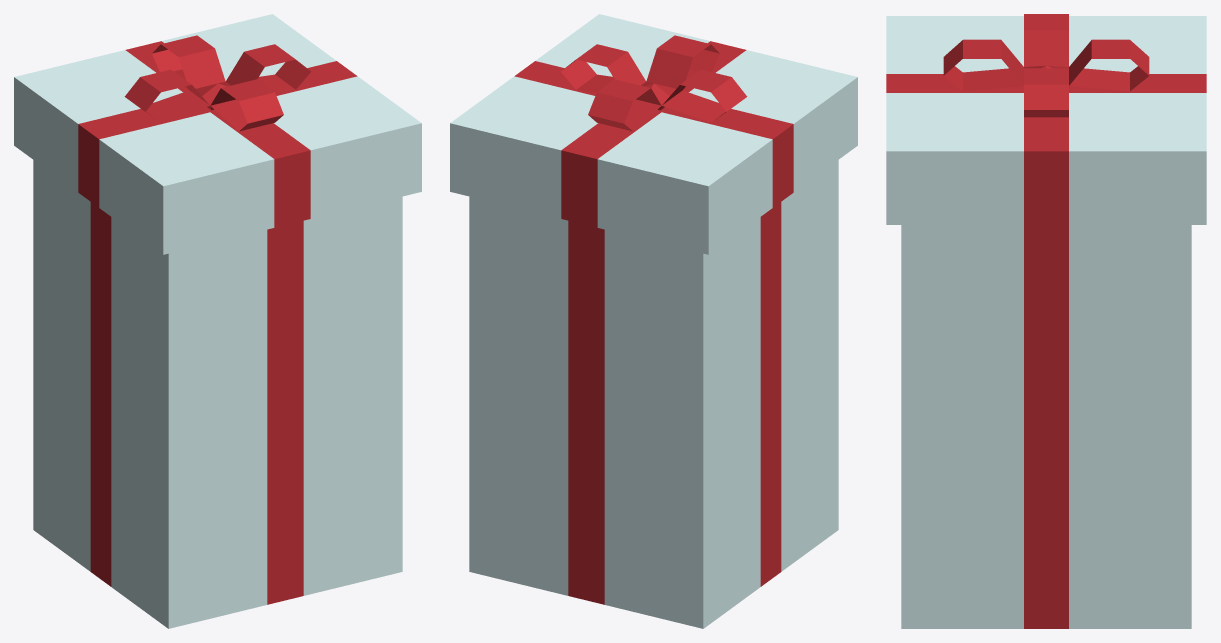
Rendered from present-box-block.glb.
3 views of the same model, side by side, from view 1: azimuth 30°, elevation 25°; view 2: azimuth 150°, elevation 25°; view 3: azimuth 270°, elevation 25° (orthographic). The views are drawn at different scales.
Parts seen in each view (by area): view 1: present-box-block-base, present-box-block-top; view 2: present-box-block-base, present-box-block-top; view 3: present-box-block-base, present-box-block-top.
Boxes of the visible parts, <box> form: present-box-block-base: <box>33,160,402,628</box>; present-box-block-top: <box>14,14,421,254</box>; present-box-block-base: <box>469,160,838,628</box>; present-box-block-top: <box>450,14,857,254</box>; present-box-block-base: <box>901,225,1191,628</box>; present-box-block-top: <box>886,14,1206,224</box>.
Size of the model in its own units: 0.5523 by 0.9854 by 0.5523.
1 material, 1 textured.
